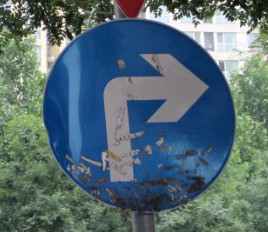right_turn: (42, 17, 237, 212)
